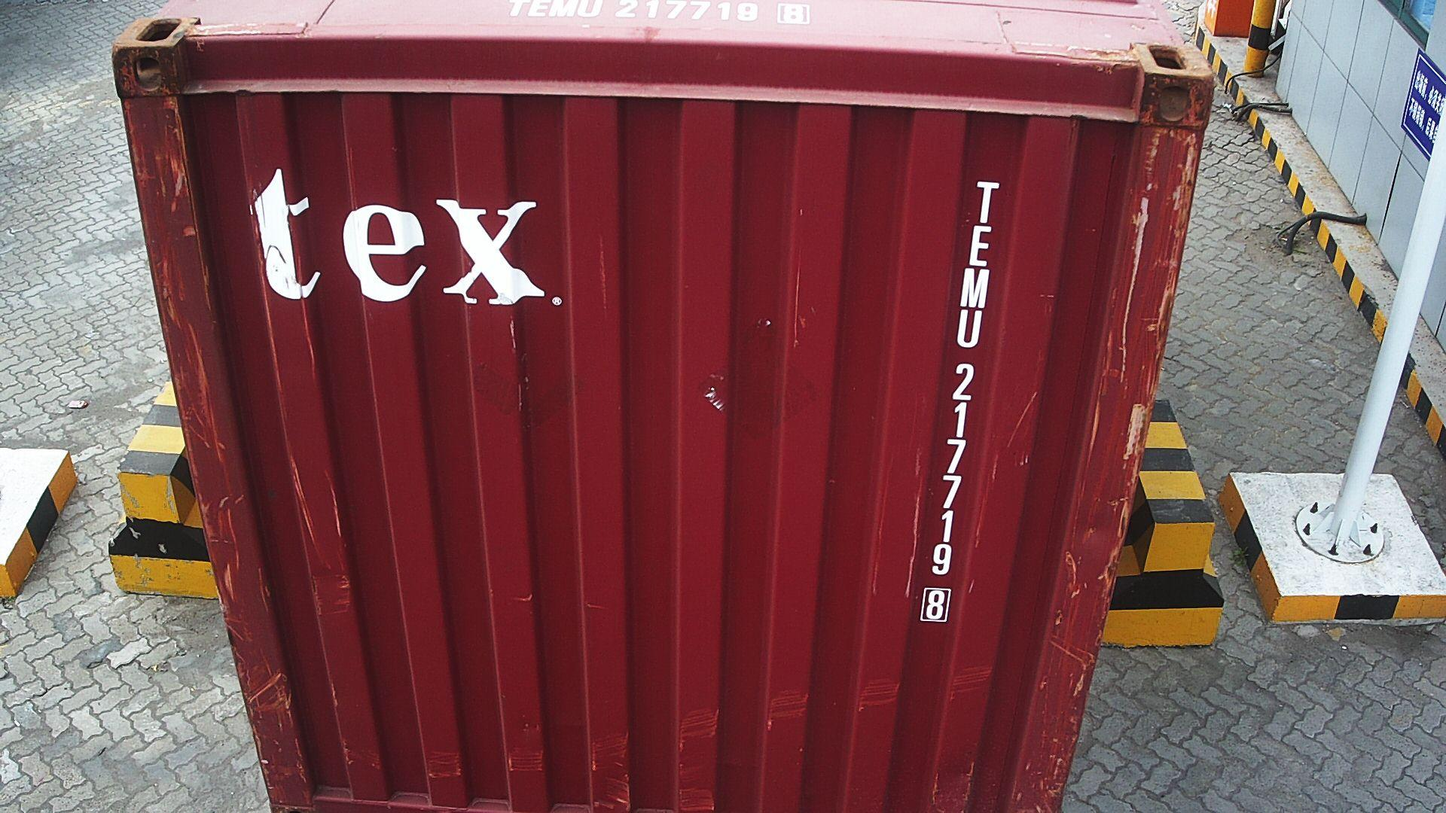container-numbers: (916, 175, 1001, 626), (499, 0, 818, 29)
